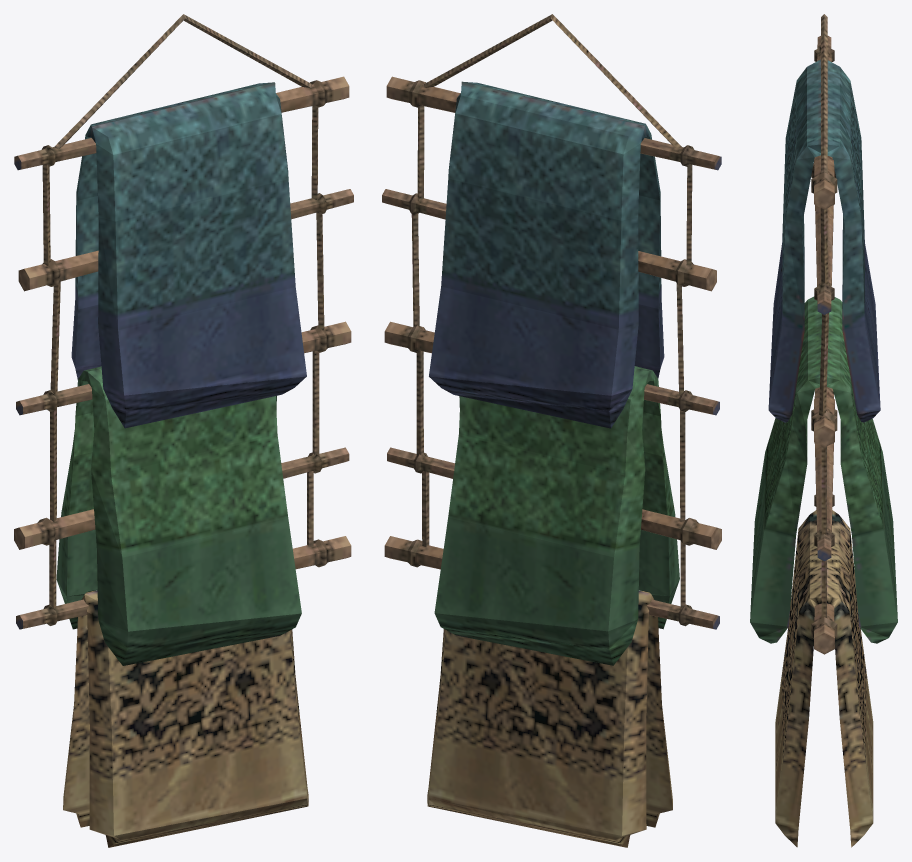
Rendered from ClothesRack.fbx.
3 renders of one model, left to right at view 1: azimuth 30°, elevation 25°; view 2: azimuth 150°, elevation 25°; view 3: azimuth 270°, elevation 25°, orthographic. The views are drawn at different scales.
Parts seen in each view (by area): view 1: 3D_YiFuJiaZi.mo; view 2: 3D_YiFuJiaZi.mo; view 3: 3D_YiFuJiaZi.mo.
Boxes of the visible parts, x1,y1,x2,y2 form: 3D_YiFuJiaZi.mo: (14, 14, 353, 847); 3D_YiFuJiaZi.mo: (382, 14, 721, 847); 3D_YiFuJiaZi.mo: (750, 14, 897, 847).
Bounding box in the file's own units: 17.84 × 41.48 × 7.12.
1 material, 1 textured.
